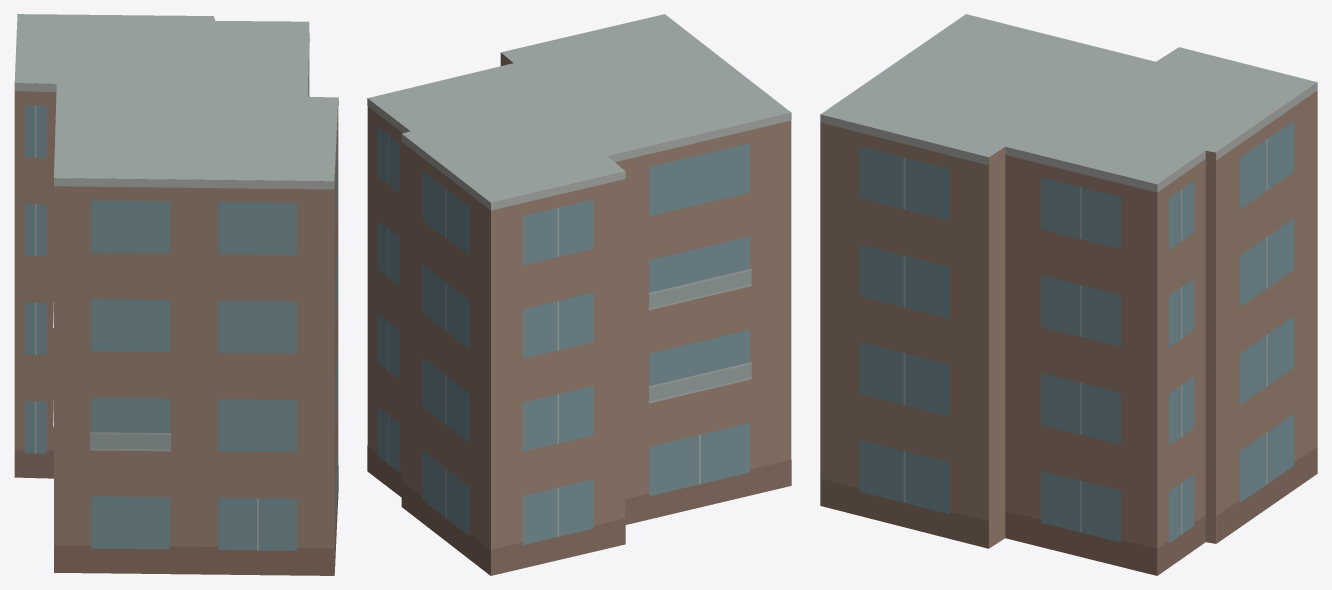
File: survey-upis-32960881.glb
3 renders of one model, left to right at view 1: azimuth 30°, elevation 25°; view 2: azimuth 150°, elevation 25°; view 3: azimuth 270°, elevation 25°, orthographic. The views are drawn at different scales.
Visible parts, largest first — view 1: survey-upis-32960881.tmp; view 2: survey-upis-32960881.tmp; view 3: survey-upis-32960881.tmp.
Boxes of the visible parts, x1,y1,x2,y2 form: survey-upis-32960881.tmp: (14,14,338,575); survey-upis-32960881.tmp: (367,14,791,575); survey-upis-32960881.tmp: (820,14,1317,575).
Bounding box in the file's own units: 10.93 × 11.7 × 13.48.
